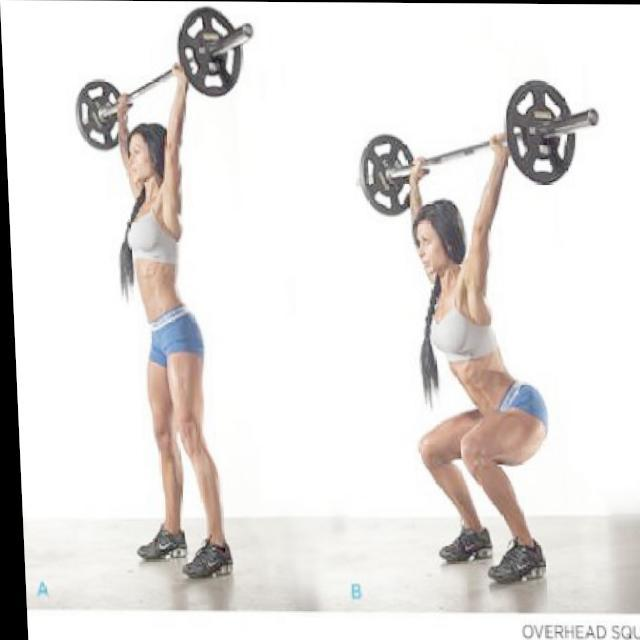barbell: (502, 75, 606, 187), (173, 4, 260, 105)
